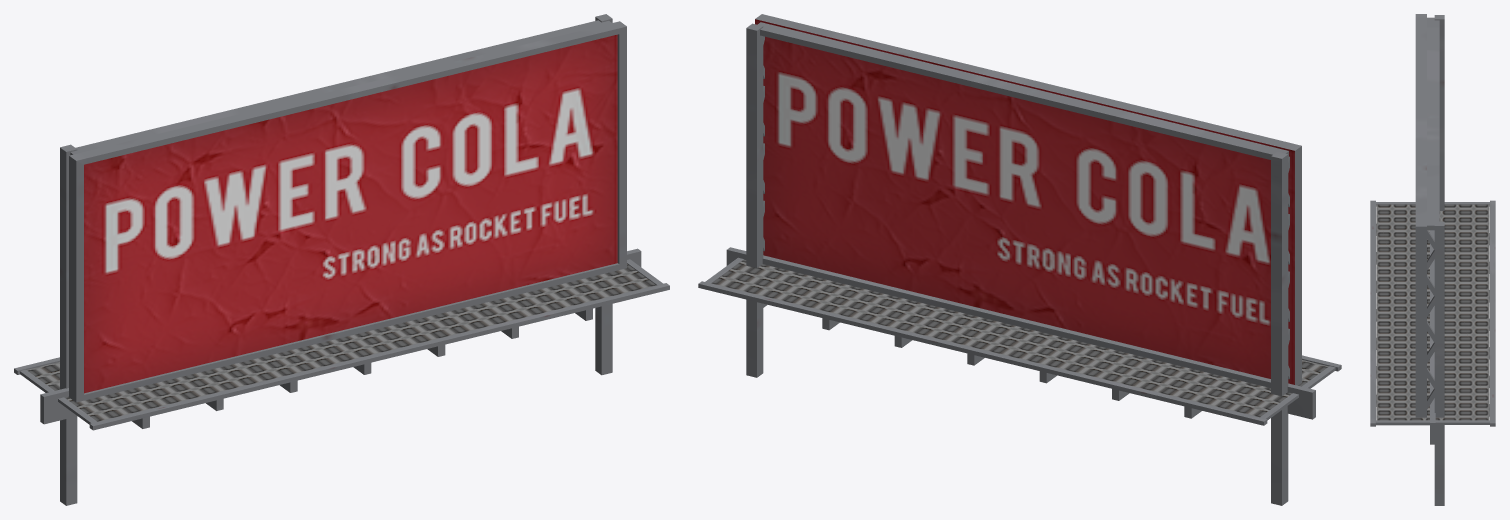
File: JiaoWaiSenLin_guanggaopai_01.FBX
The picture shows the model from 3 angles, left to right: view 1: azimuth 30°, elevation 25°; view 2: azimuth 150°, elevation 25°; view 3: azimuth 270°, elevation 25°; orthographic projection. The views are drawn at different scales.
Visible parts, largest first — view 1: JiaoWaiSenLin_guanggaopai_01; view 2: JiaoWaiSenLin_guanggaopai_01; view 3: JiaoWaiSenLin_guanggaopai_01.
Boxes of the visible parts, x1,y1,x2,y2 form: JiaoWaiSenLin_guanggaopai_01: [14, 14, 669, 505]; JiaoWaiSenLin_guanggaopai_01: [698, 14, 1341, 505]; JiaoWaiSenLin_guanggaopai_01: [1370, 14, 1495, 505].
Bounding box in the file's own units: 1392 × 789 × 319.
